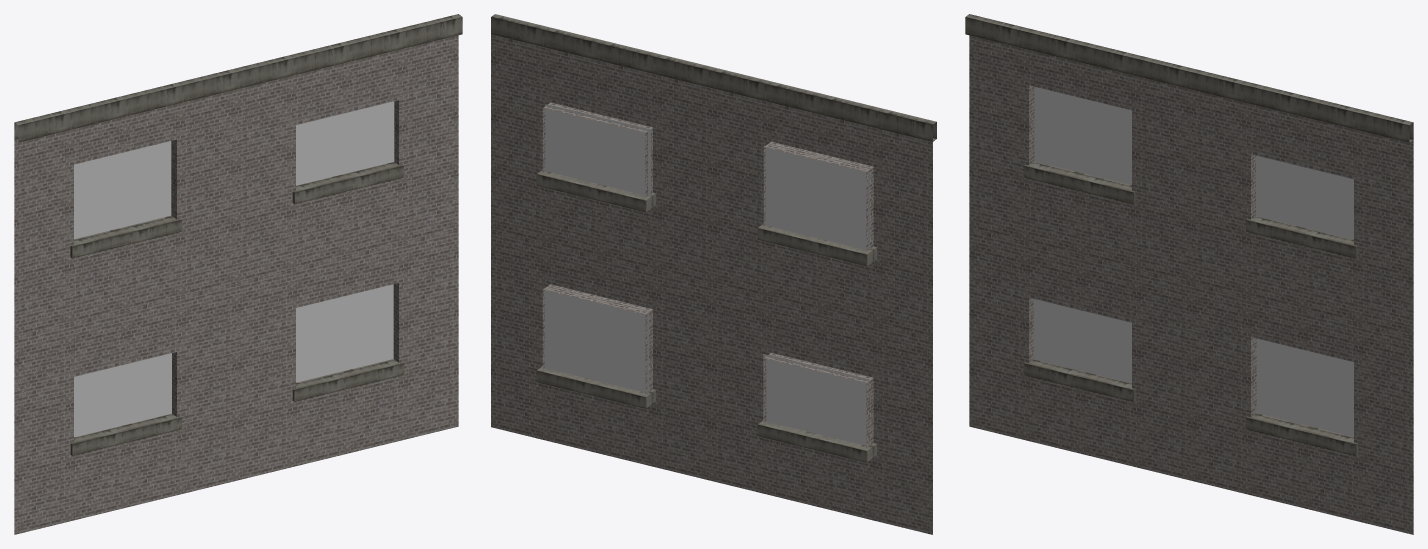
The model's file is W_WindowSet_D_8x.FBX.
3 renders of one model, left to right at view 1: azimuth 30°, elevation 25°; view 2: azimuth 150°, elevation 25°; view 3: azimuth 330°, elevation 25°, orthographic.
Parts seen in each view (by area): view 1: W_WindowSet_D_8x; view 2: W_WindowSet_D_8x; view 3: W_WindowSet_D_8x.
Boxes of the visible parts, box(x1,y1,x2,y2) form: W_WindowSet_D_8x: box(14, 14, 462, 534); W_WindowSet_D_8x: box(491, 14, 936, 534); W_WindowSet_D_8x: box(965, 14, 1413, 534).
Bounding box in the file's own units: 800 × 710 × 44.71.
